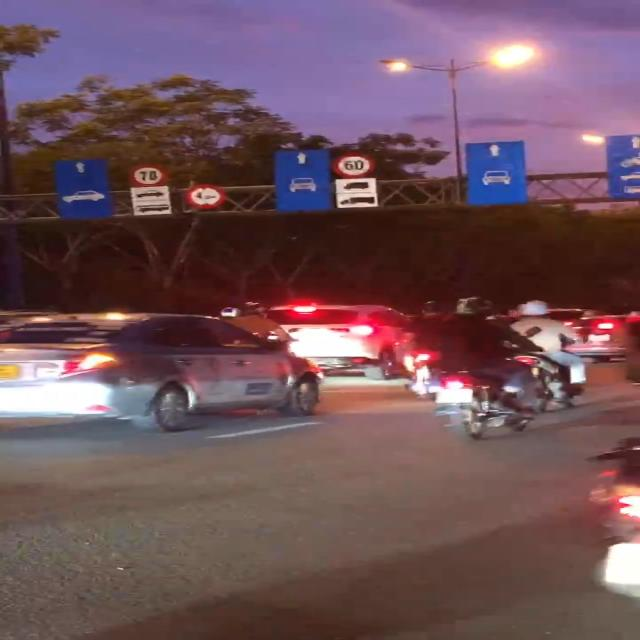Bien bao toc do toi da cho phep: (324, 148, 380, 179), (127, 162, 169, 188)
